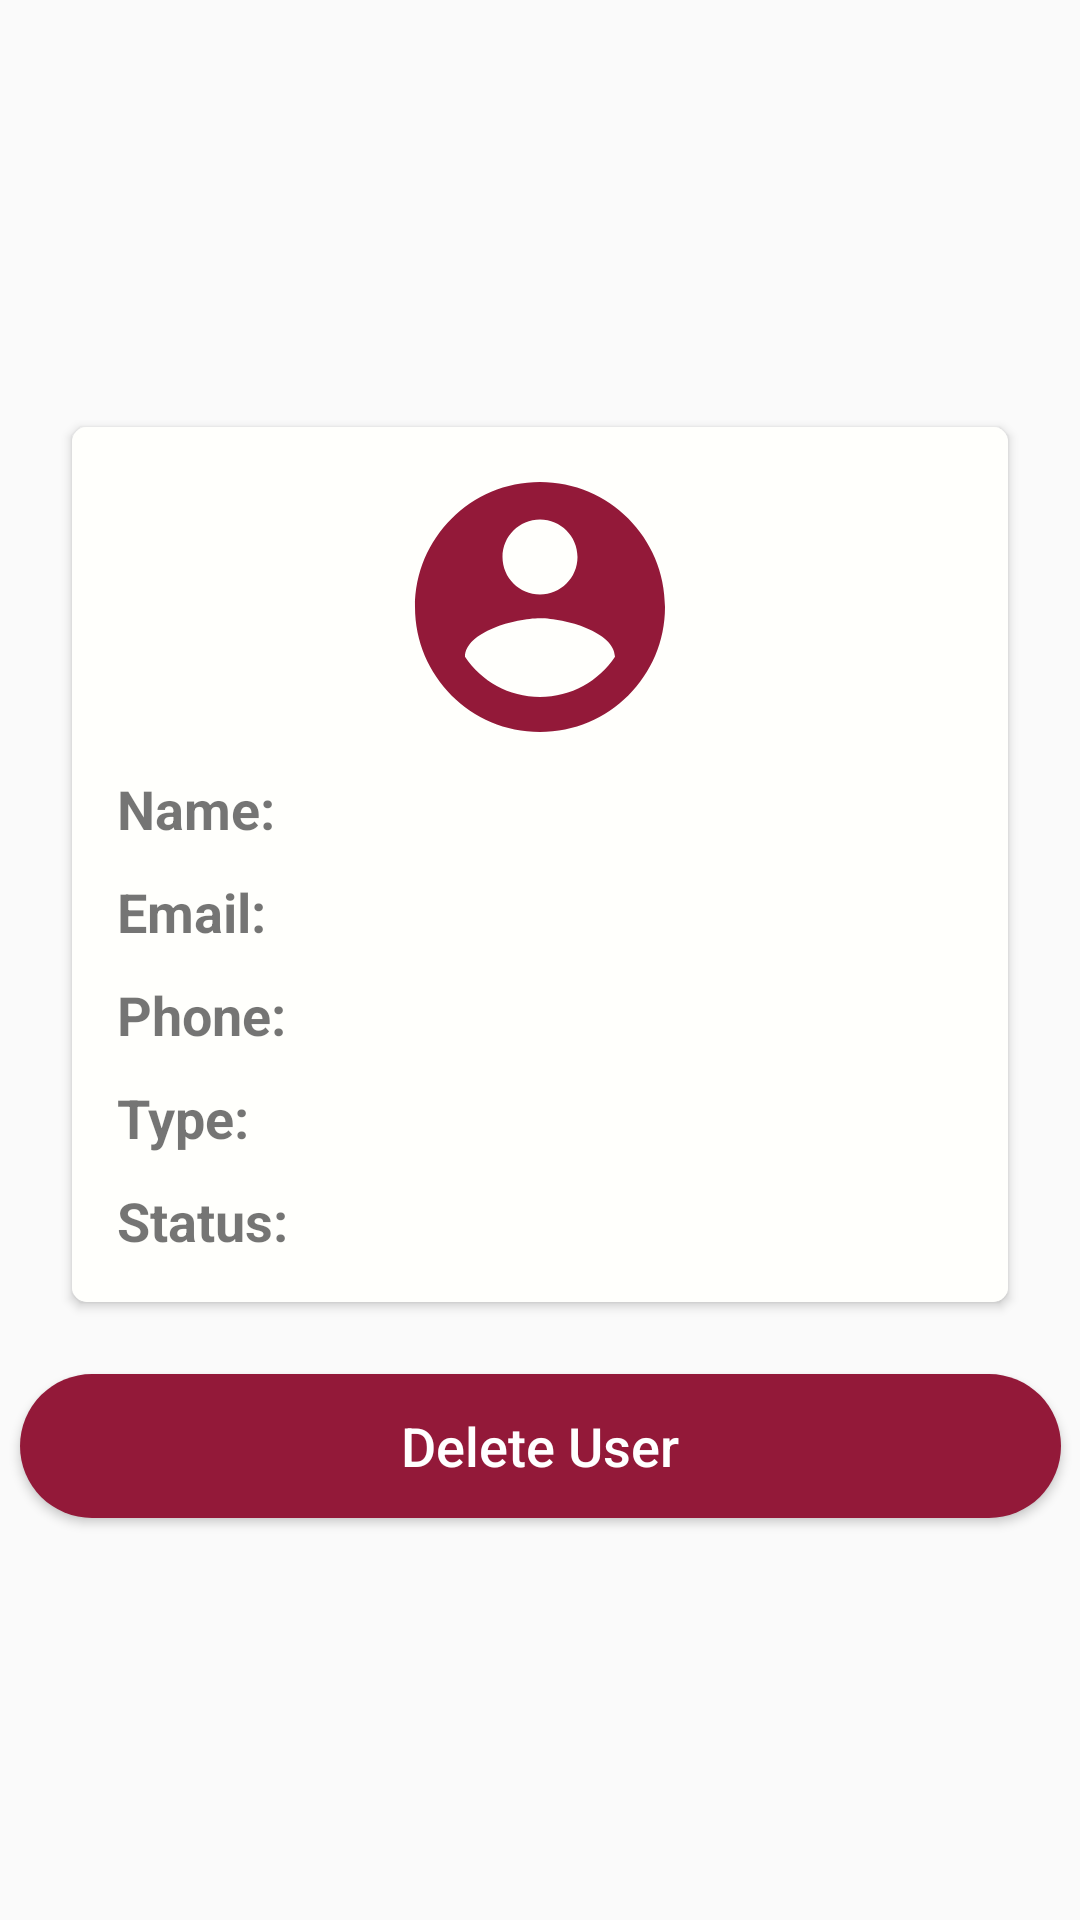

Icon bounding boxes for this 1080 x 1920 phone screenshot, format bbox(x1, y1, x2, y2):
user: bbox(415, 482, 665, 732)
